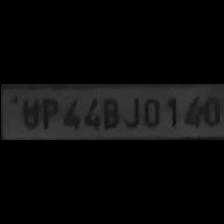0: (138, 94, 162, 128), (198, 94, 222, 128)
1: (162, 94, 180, 128)
4: (182, 94, 208, 128), (58, 94, 82, 130), (81, 94, 101, 130)
B: (100, 94, 118, 130)
J: (121, 94, 139, 128)
N: (18, 96, 38, 130)
P: (38, 96, 58, 130)
